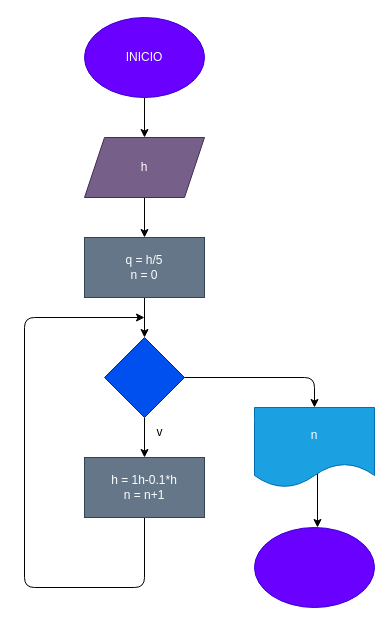
This 392x625 diagram has some shape labels left out. Here are the shapes that lost their labels. From the top down, the centre of each, then its label:
point (144, 377): h>=q
point (314, 567): FIN
